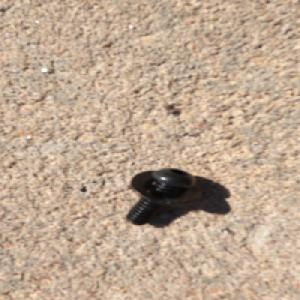BoltWasher: (123, 165, 204, 226)
